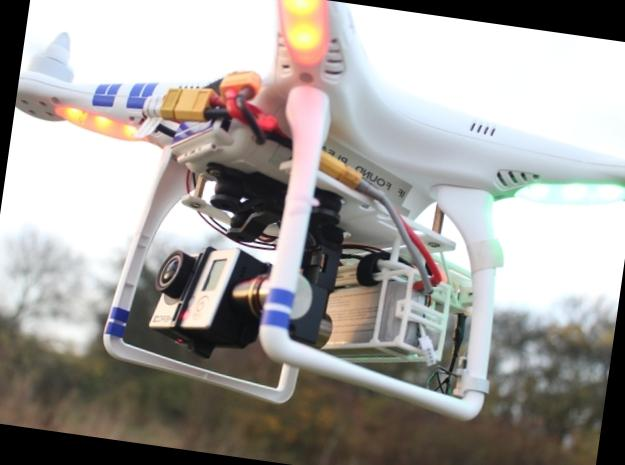drone: (0, 0, 625, 300)
